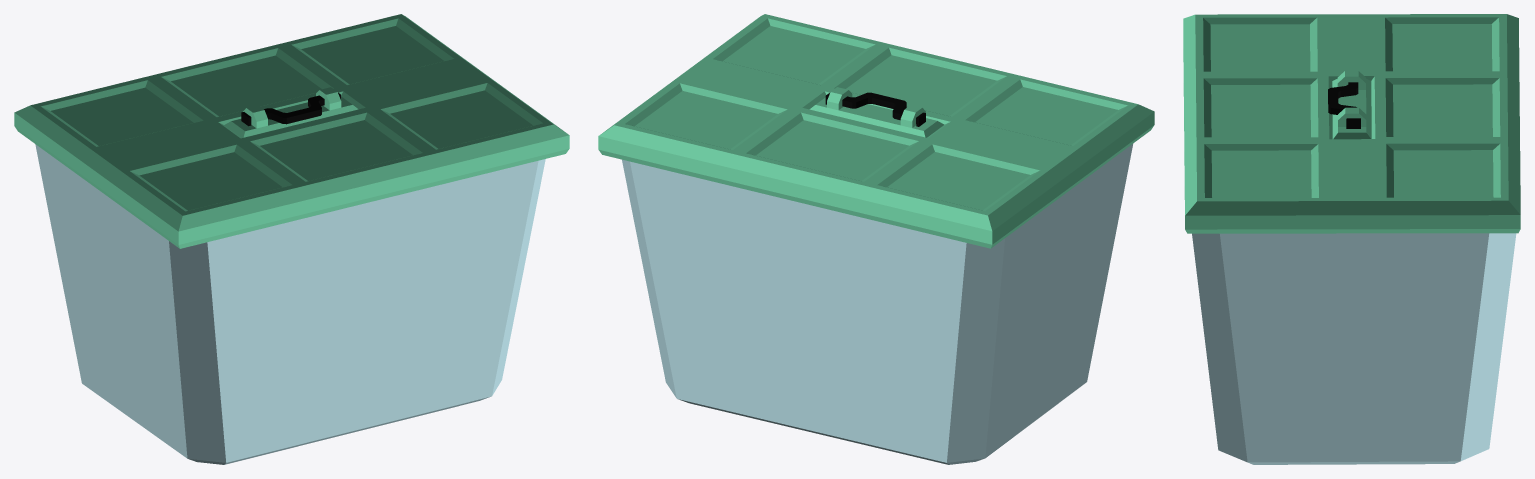
Rendered from Storage Box 4.fbx.
3 views of the same model, side by side, from view 1: azimuth 30°, elevation 25°; view 2: azimuth 150°, elevation 25°; view 3: azimuth 270°, elevation 25° (orthographic). The views are drawn at different scales.
Parts seen in each view (by area): view 1: Storage Box; view 2: Storage Box; view 3: Storage Box.
Part boxes in pixels (box(x1,y1,x2,y2)): Storage Box: box(14, 14, 569, 464); Storage Box: box(598, 14, 1154, 464); Storage Box: box(1183, 14, 1520, 464).
Bounding box in the file's own units: 0.5433 × 0.5309 × 0.7524.
